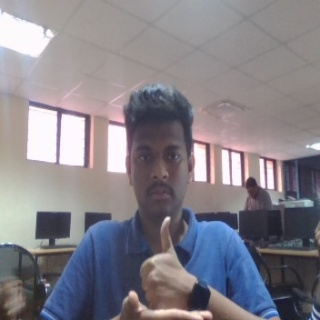Face: (123, 82, 197, 214)
Help: (119, 216, 212, 320)
